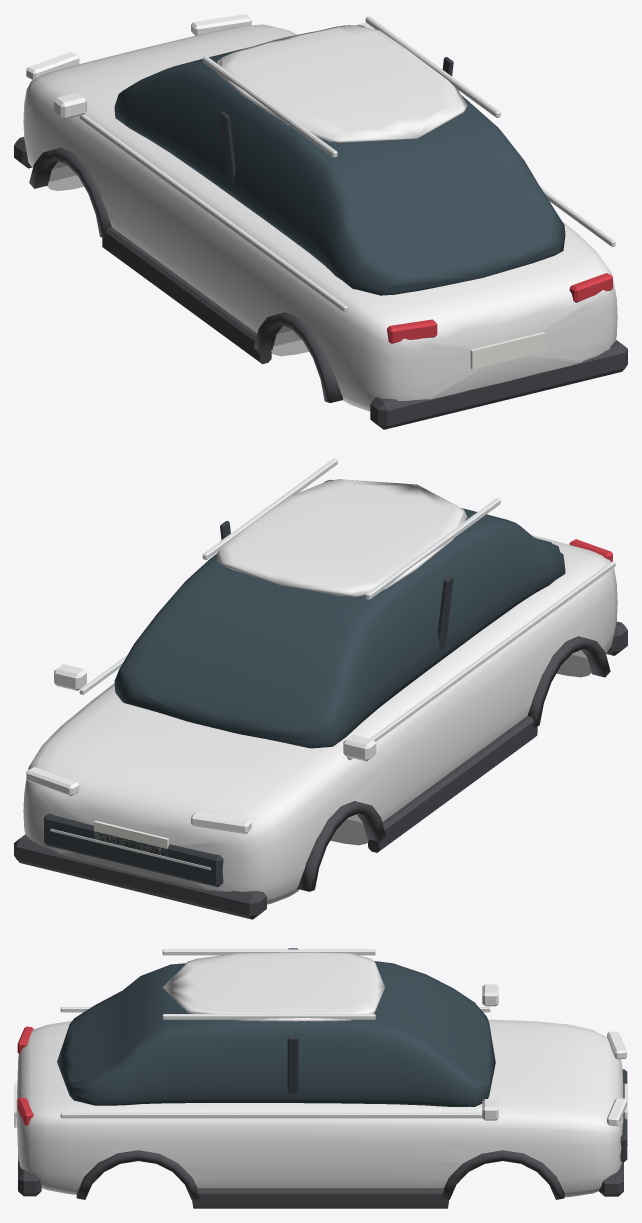
The model's file is suv.glb.
3 views of the same model, one above another, from view 1: azimuth 30°, elevation 25°; view 2: azimuth 150°, elevation 25°; view 3: azimuth 270°, elevation 25° (orthographic). The views are drawn at different scales.
Visible parts, largest first — view 1: paint_body, glass_house, roof, bumper_r, rubber_sill, chrome_beltline, rubber_arch.001, rubber_arch, plate.001, chrome_rail, chrome_rail.001, tail_lamp (+6 smaller); view 2: paint_body, glass_house, roof, bumper_f, black_grille, rubber_sill, rubber_arch, chrome_beltline, rubber_arch.001, chrome_rail, chrome_rail.001, plate (+5 smaller); view 3: paint_body, glass_house, roof, rubber_sill.001, chrome_beltline.001, rubber_arch.003, rubber_arch.002, chrome_rail.001, chrome_rail, black_bpillar.001, bumper_r, bumper_f (+3 smaller).
Part boxes in pixels (x1,y1,x2,y2): paint_body: [23, 24, 617, 411]; glass_house: [114, 25, 565, 295]; roof: [217, 25, 467, 143]; bumper_r: [370, 340, 627, 429]; rubber_sill: [102, 227, 271, 364]; chrome_beltline: [79, 114, 347, 312]; rubber_arch.001: [254, 312, 343, 402]; rubber_arch: [29, 147, 111, 238]; plate.001: [470, 332, 545, 369]; chrome_rail: [202, 56, 337, 157]; chrome_rail.001: [365, 16, 500, 117]; tail_lamp: [387, 319, 437, 343]; paint_body: [23, 535, 617, 904]; glass_house: [114, 479, 565, 748]; roof: [217, 479, 467, 596]; bumper_f: [14, 834, 266, 919]; black_grille: [44, 813, 223, 887]; rubber_sill: [368, 716, 537, 852]; rubber_arch: [297, 801, 385, 891]; chrome_beltline: [347, 561, 615, 760]; rubber_arch.001: [527, 636, 610, 727]; chrome_rail: [365, 498, 500, 599]; chrome_rail.001: [202, 458, 337, 560]; plate: [94, 820, 169, 856]; paint_body: [16, 1019, 623, 1197]; glass_house: [57, 961, 495, 1106]; roof: [163, 952, 384, 1021]; rubber_sill.001: [192, 1188, 448, 1208]; chrome_beltline.001: [60, 1112, 482, 1118]; rubber_arch.003: [76, 1150, 200, 1199]; rubber_arch.002: [441, 1150, 564, 1199]; chrome_rail.001: [162, 1014, 375, 1019]; chrome_rail: [162, 949, 375, 955]; black_bpillar.001: [287, 1037, 298, 1094]; bumper_r: [18, 1156, 41, 1196]; bumper_f: [599, 1162, 623, 1196].
Size of the model in its own units: 2.15 by 1.39 by 4.46.
